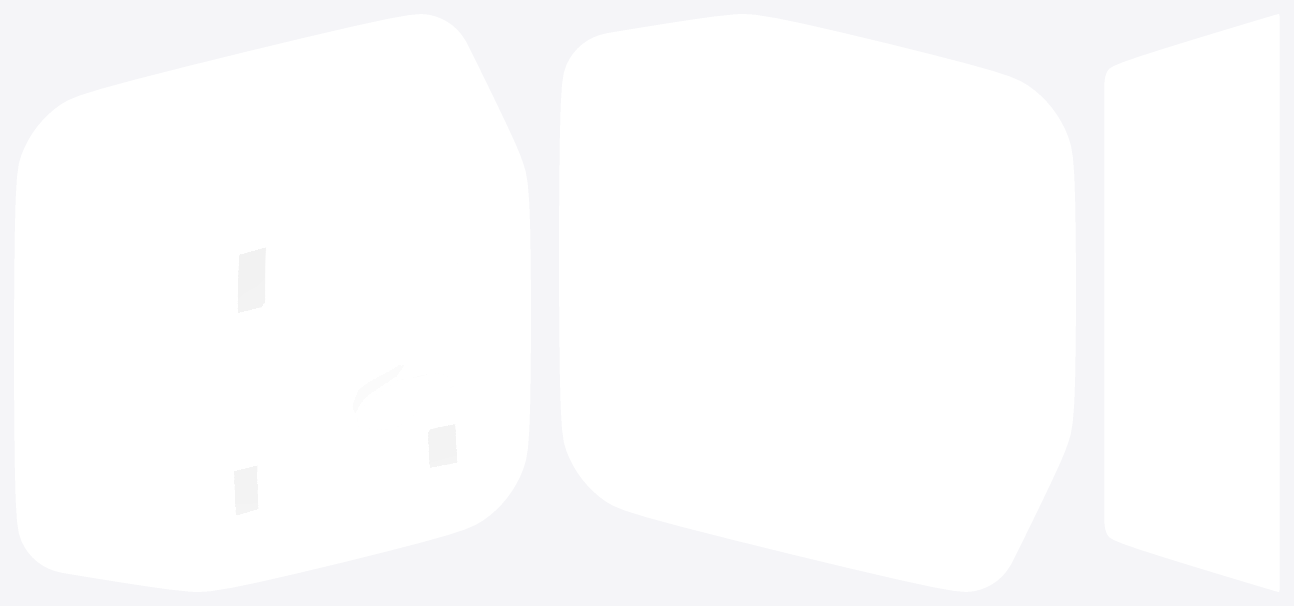
The model's file is button2.glb.
3 views of the same model, side by side, from view 1: azimuth 30°, elevation 25°; view 2: azimuth 150°, elevation 25°; view 3: azimuth 270°, elevation 25° (orthographic). The views are drawn at different scales.
Visible parts, largest first — view 1: Cube.004; view 2: Cube.004; view 3: Cube.004.
Part boxes in pixels (x1=…): Cube.004: x1=14, y1=14, x2=530, y2=591; Cube.004: x1=559, y1=14, x2=1075, y2=591; Cube.004: x1=1104, y1=14, x2=1279, y2=591.
Size of the model in its own units: 0.2392 by 0.2392 by 0.0881.
Materials: 1 (1 with a texture image).
